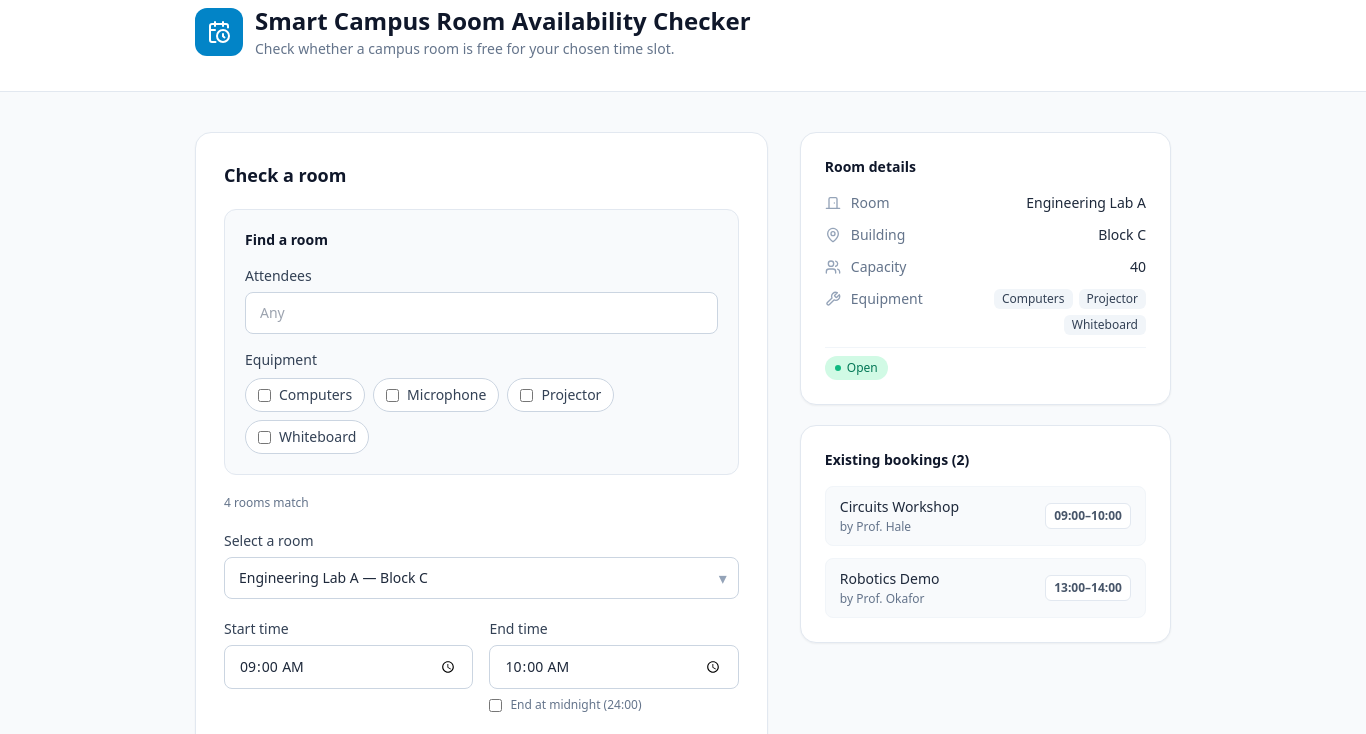
Scenario: App integration (UI behavior) › UI5 (F3): a blocked room is reported as unavailable
This screenshot has width=1366, height=734.
In the number field labelled "Attendees": (481, 313) [245,292,718,334], type "20"
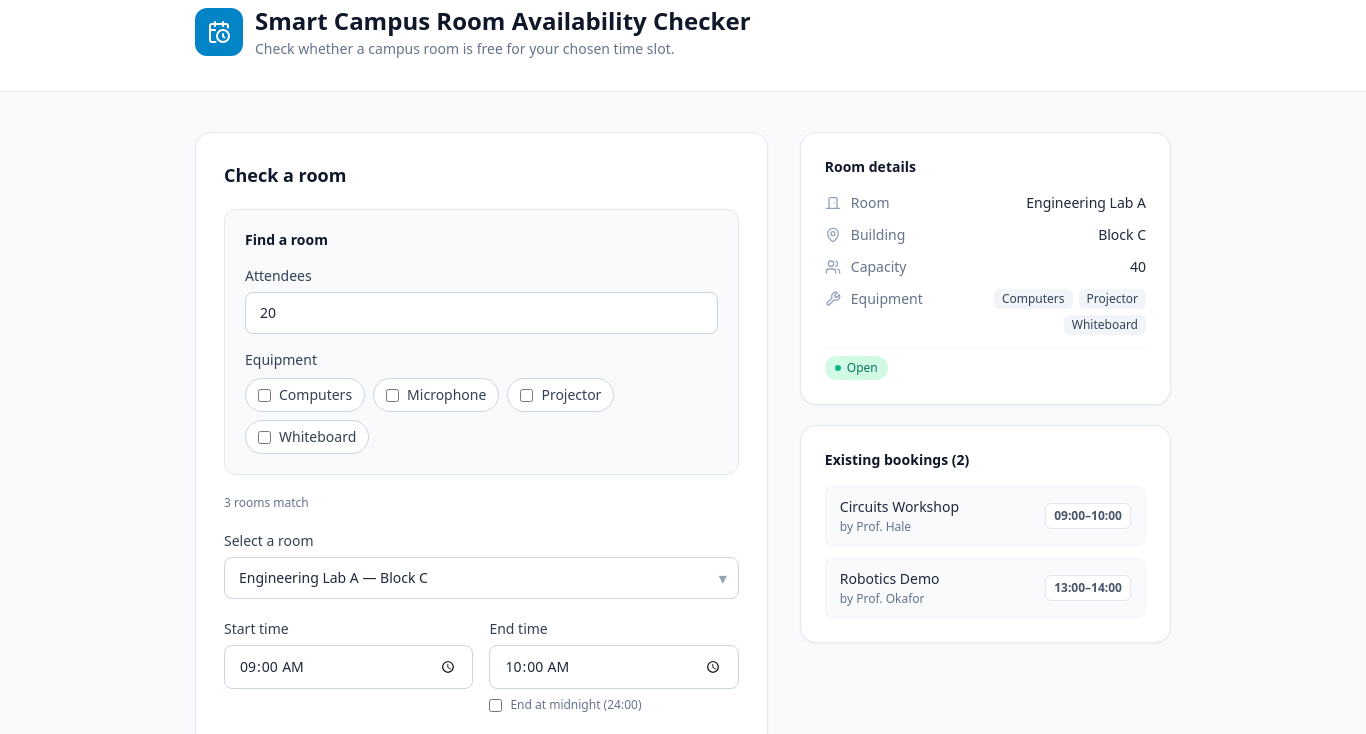
Click the checkbox labelled "computers": click(264, 395) [258,388,271,402]
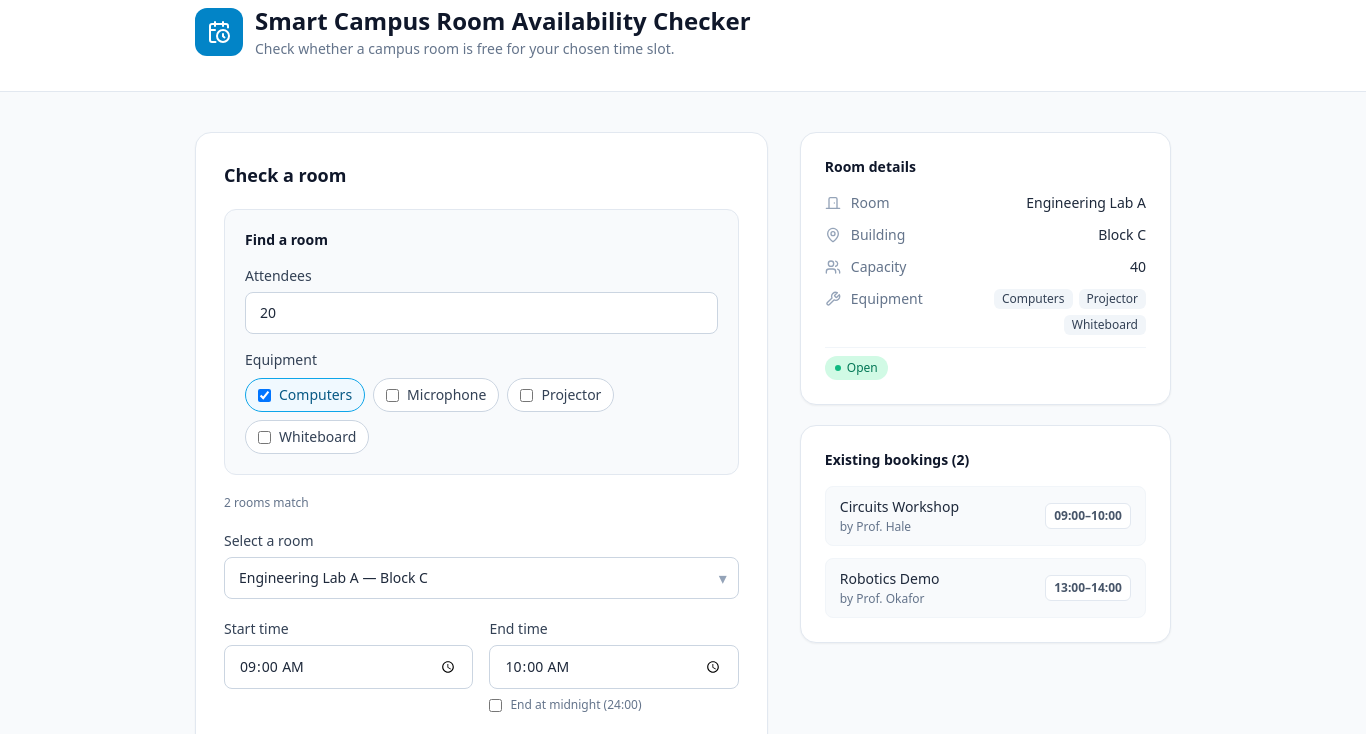
Click the checkbox labelled "whiteboard": click(264, 437) [258,430,271,444]
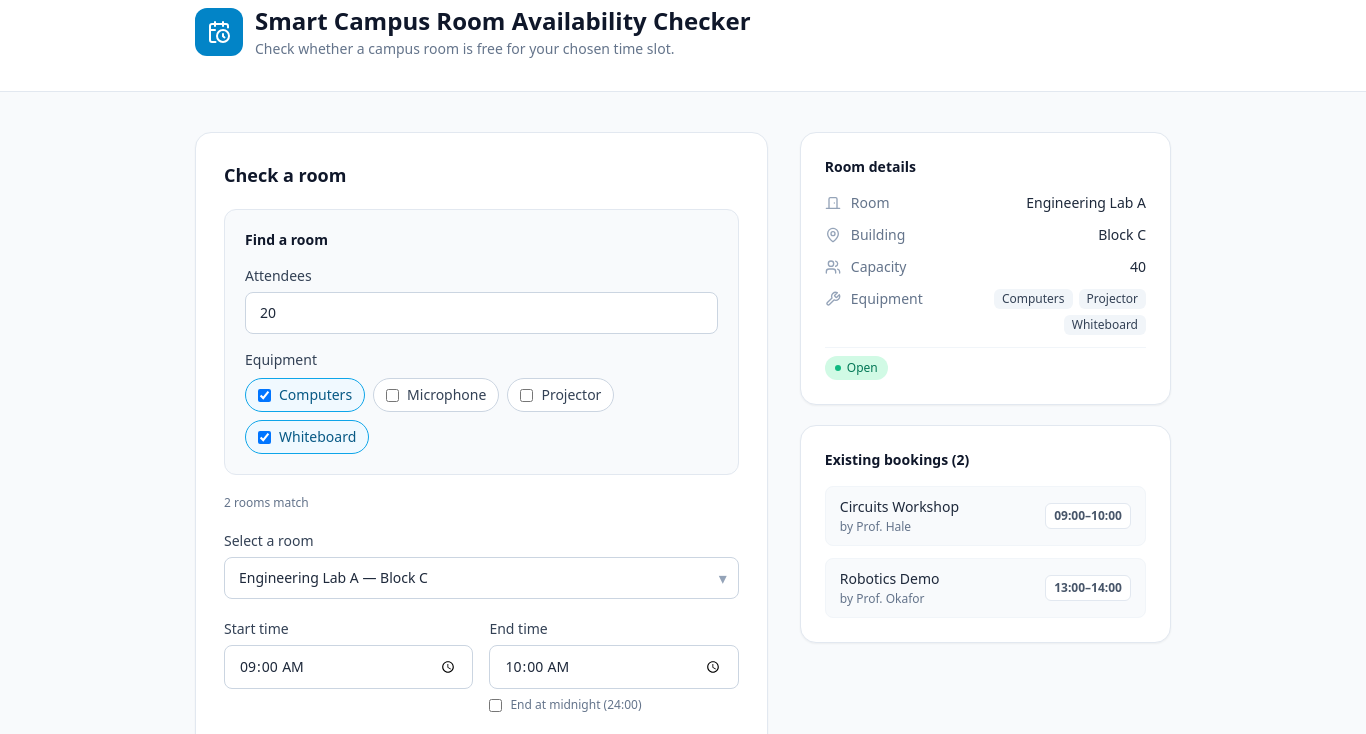
Select "Design Studio — Block D (Blocked)" in the dropdown labelled "Select a room": (481, 578) [224,557,739,599]
(page scrolled)
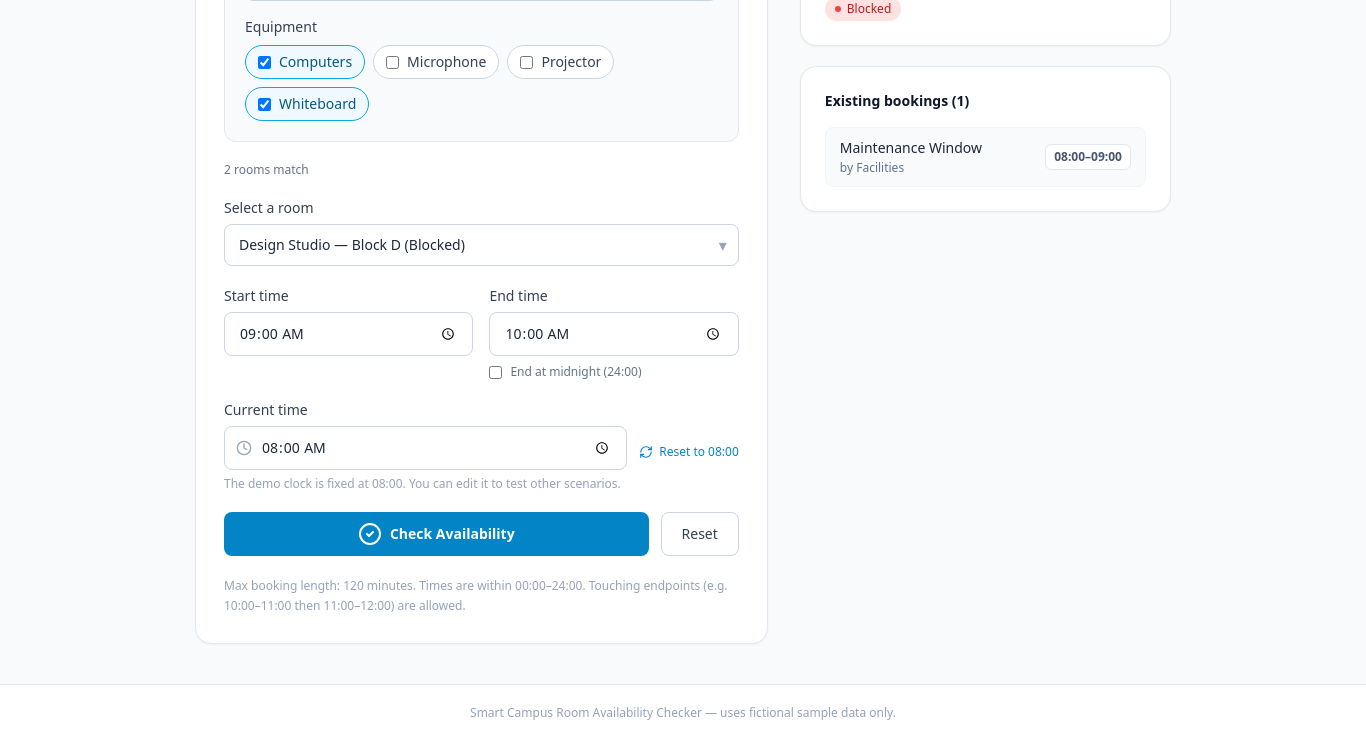
Click the button "Check Availability": click(436, 534) [224,512,648,556]
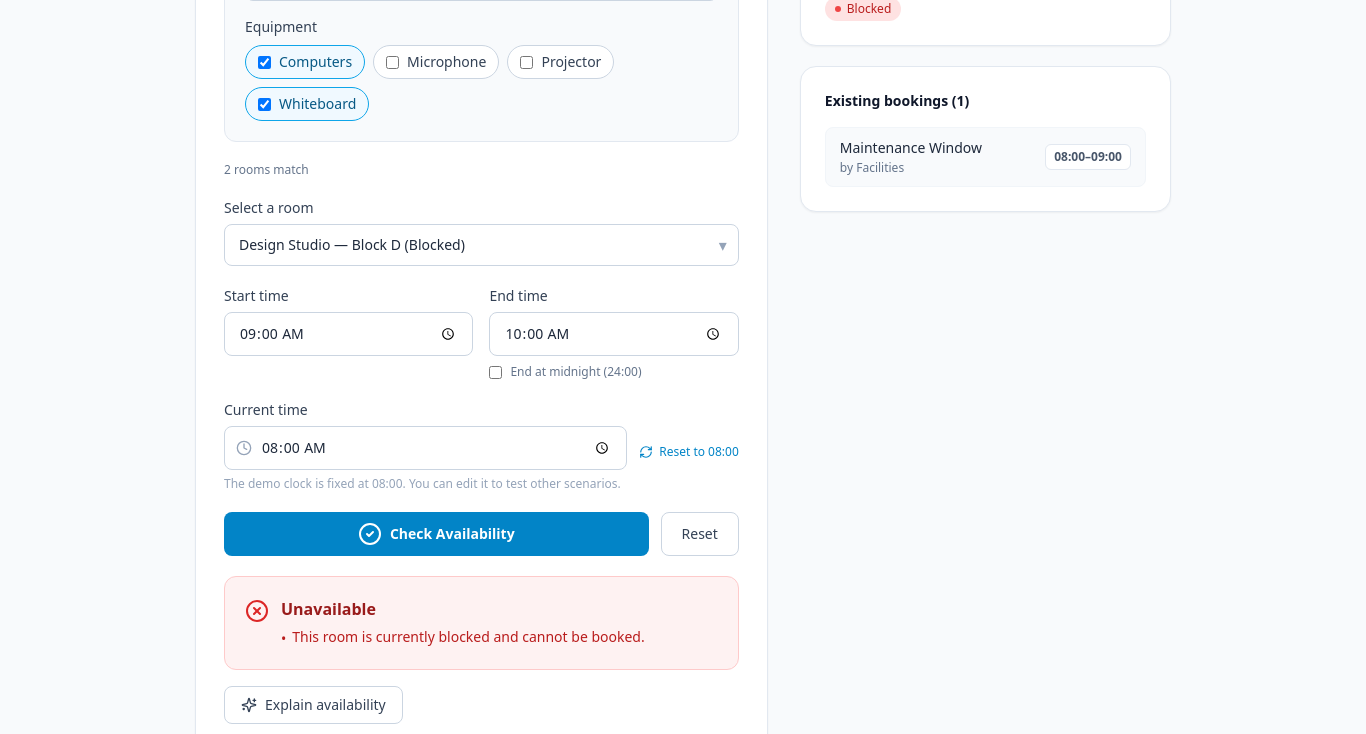
Now the text "Unavailable" is shown, box [281,598,376,620]
Now the text "This room is currently blocked and cannot be booked." is shown, box [292,627,645,647]
